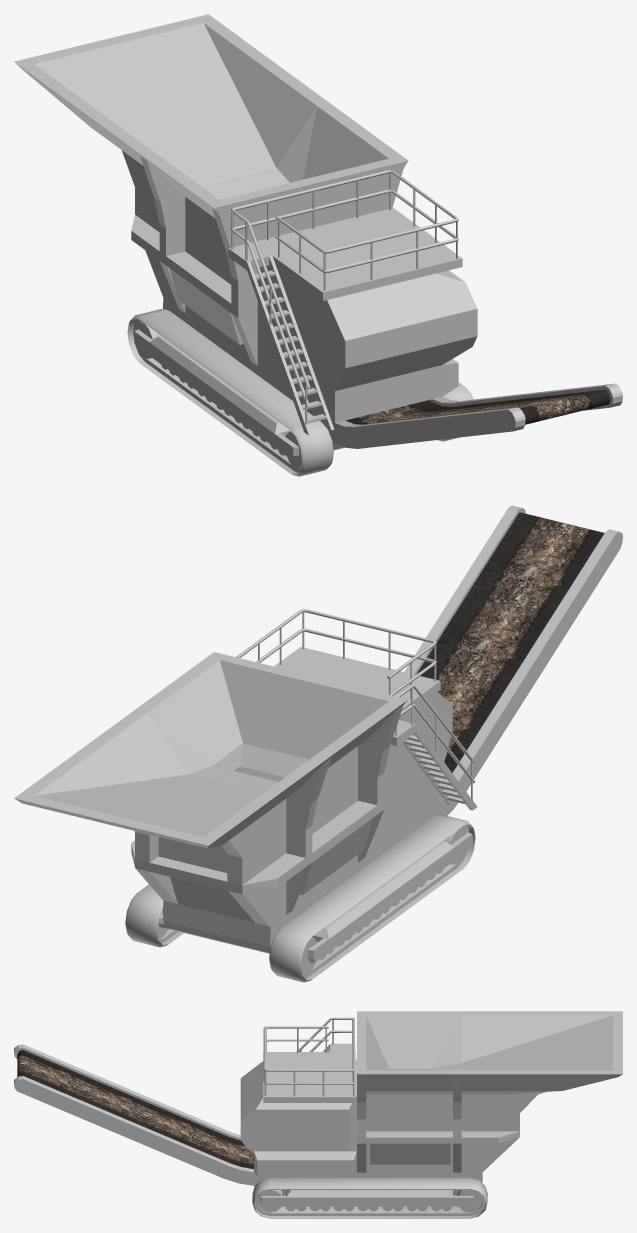
Rendered from mobilecrusher.FBX.
The picture shows the model from 3 angles, top to bottom: view 1: azimuth 30°, elevation 25°; view 2: azimuth 150°, elevation 25°; view 3: azimuth 270°, elevation 25°; orthographic projection. The views are drawn at different scales.
Visible parts, largest first — view 1: mobilecrusher, mobilecrushertracks, mobilecrusherconveyor; view 2: mobilecrusher, mobilecrusherconveyor, mobilecrushertracks; view 3: mobilecrusher, mobilecrusherconveyor, mobilecrushertracks.
Part boxes in pixels (x1,y1,x2,y2): mobilecrusher: (14, 14, 622, 468); mobilecrushertracks: (127, 309, 473, 476); mobilecrusherconveyor: (345, 389, 610, 424); mobilecrusher: (14, 505, 622, 974); mobilecrusherconveyor: (416, 512, 604, 772); mobilecrushertracks: (125, 814, 475, 982); mobilecrusher: (14, 1011, 622, 1212); mobilecrusherconveyor: (17, 1050, 253, 1169); mobilecrushertracks: (252, 1178, 487, 1218).
Size of the model in its own units: 4.76 by 5.19 by 19.39.
